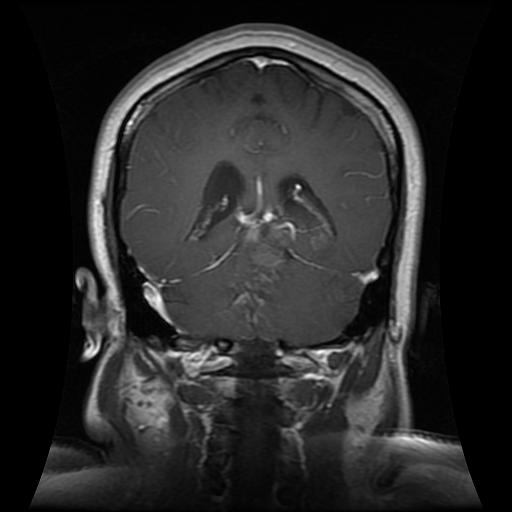Gliomia_tumour: (229, 201, 298, 326)
